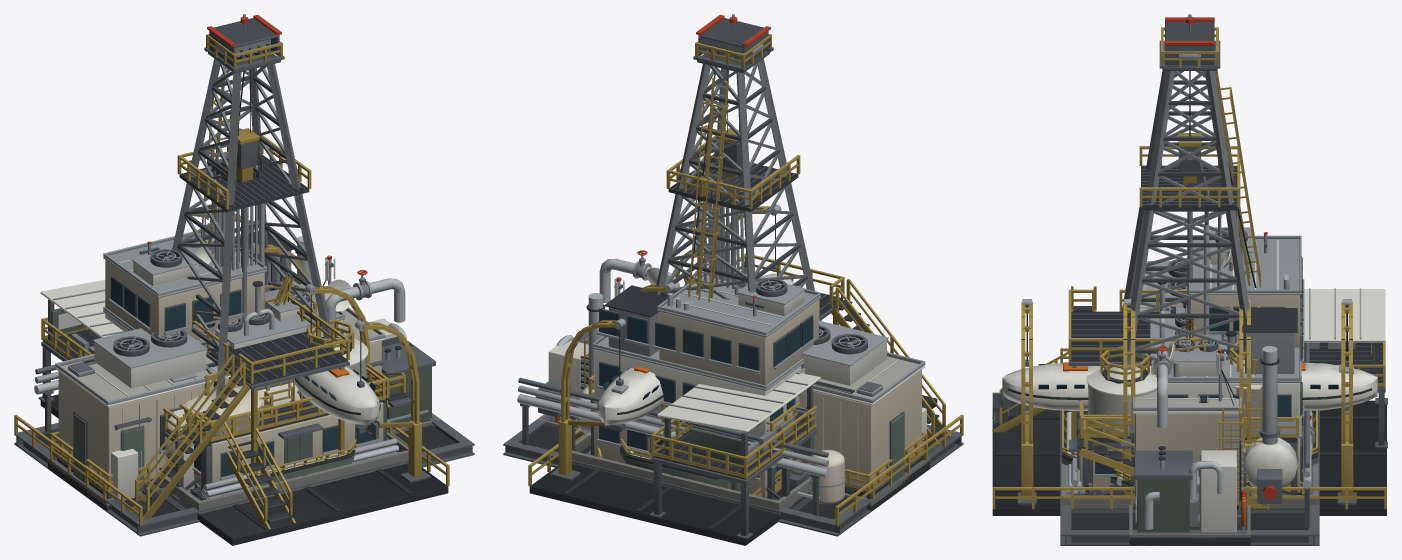
The model's file is buildings_v2.glb.
3 renders of one model, left to right at view 1: azimuth 30°, elevation 25°; view 2: azimuth 150°, elevation 25°; view 3: azimuth 270°, elevation 25°, orthographic. The views are drawn at different scales.
Parts seen in each view (by area): view 1: bld_2x2_d, bld_2x3_a, bld_3x2_a, bld_3x1_b, bld_2x2_a, bld_2x2_b, bld_3x1_a, bld_2x2_c, bld_2x2_e; view 2: bld_2x3_a, bld_2x2_d, bld_2x2_a, bld_3x2_a, bld_3x1_b, bld_2x2_b, bld_3x1_a, bld_2x2_c, bld_2x2_e; view 3: bld_2x3_a, bld_2x2_d, bld_2x2_a, bld_3x2_a, bld_3x1_b, bld_2x2_b, bld_3x1_a, bld_2x2_c.
Boxes of the visible parts, x1,y1,x2,y2 form: bld_2x2_d: (169,14,399,499); bld_2x3_a: (38,208,449,545); bld_3x2_a: (14,236,474,536); bld_3x1_b: (48,255,435,509); bld_2x2_a: (103,225,410,519); bld_2x2_b: (163,282,408,519); bld_3x1_a: (47,323,440,511); bld_2x2_c: (165,438,388,500); bld_2x2_e: (170,443,408,515); bld_2x3_a: (528,204,937,545); bld_2x2_d: (588,14,821,500); bld_2x2_a: (592,268,820,519); bld_3x2_a: (503,250,963,536); bld_3x1_b: (542,267,929,506); bld_2x2_b: (572,276,810,519); bld_3x1_a: (537,335,930,511); bld_2x2_c: (597,438,810,496); bld_2x2_e: (572,439,810,515); bld_2x3_a: (992,288,1387,515); bld_2x2_d: (1066,14,1298,508); bld_2x2_a: (1068,227,1304,495); bld_3x2_a: (1060,282,1319,545); bld_3x1_b: (1129,258,1250,544); bld_2x2_b: (1061,338,1318,508); bld_3x1_a: (1129,461,1250,545); bld_2x2_c: (1061,410,1318,494).
Size of the model in its own units: 2.88 by 3.58 by 2.87.
